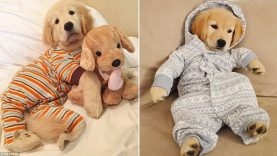dog: (158, 2, 277, 145), (14, 2, 92, 143), (81, 24, 135, 121)
